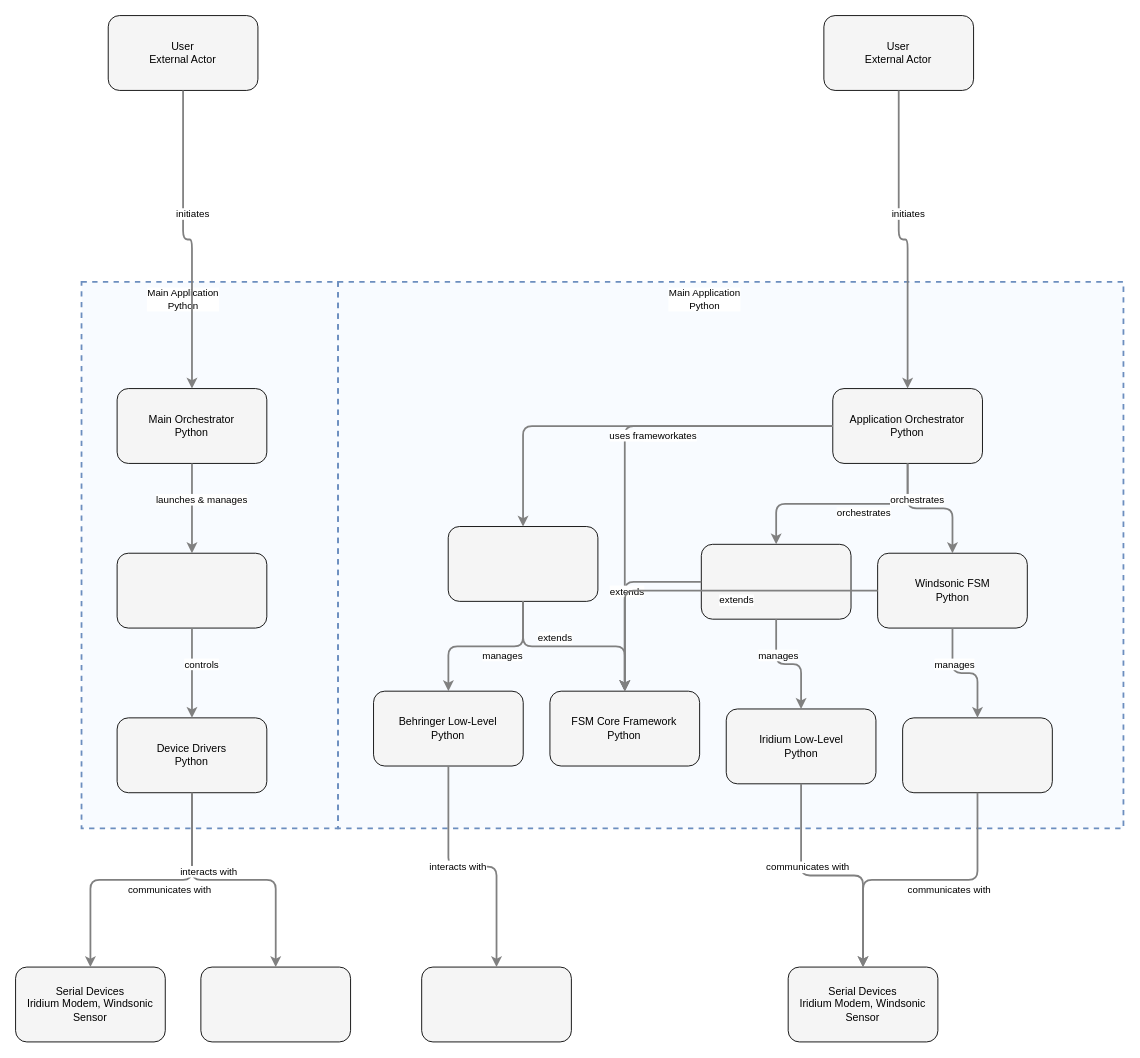
The diagram is 1140 pixels wide and 1058 high, and some of its shapes have lost their labels. Here are the shapes that lost their labels. From the top down, the centre of each, then its label:
At point (522, 563): "Behringer FSM Python".
At point (775, 581): "Iridium FSM Python".
At point (191, 590): "FSM Manager Python".
At point (977, 755): "Windsonic Low-Level Python".
At point (275, 1004): "Audio Hardware Behringer Mixer".
At point (496, 1004): "Audio Hardware Behringer Devices".
